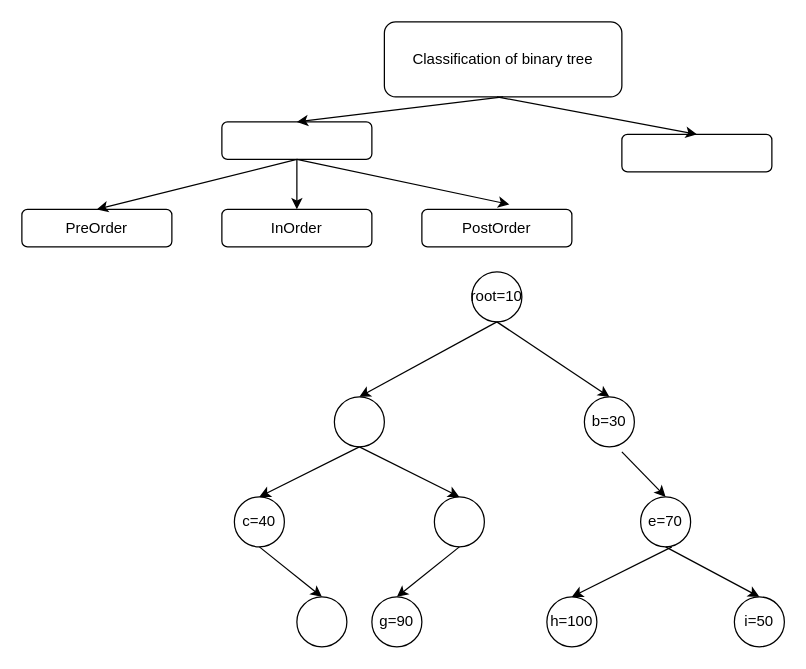
Some shapes in this 806 by 669 pixel diagram are drawn without their labels. The centre of each missing label's shape, as x and y in pixels:
"a=20" goes at [358,421].
"d=60" goes at [458,521].
"f=80" goes at [321,621].
"In Depth" goes at [296,140].
"Level" goes at [696,152].
